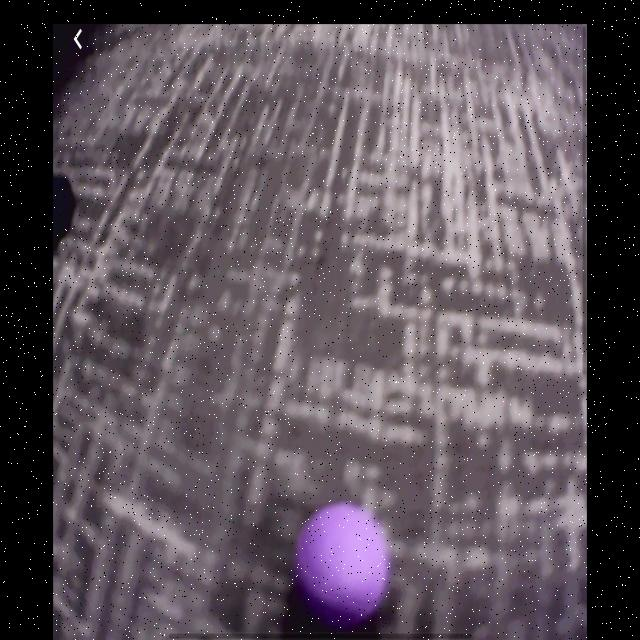ball: (295, 501, 393, 626)
